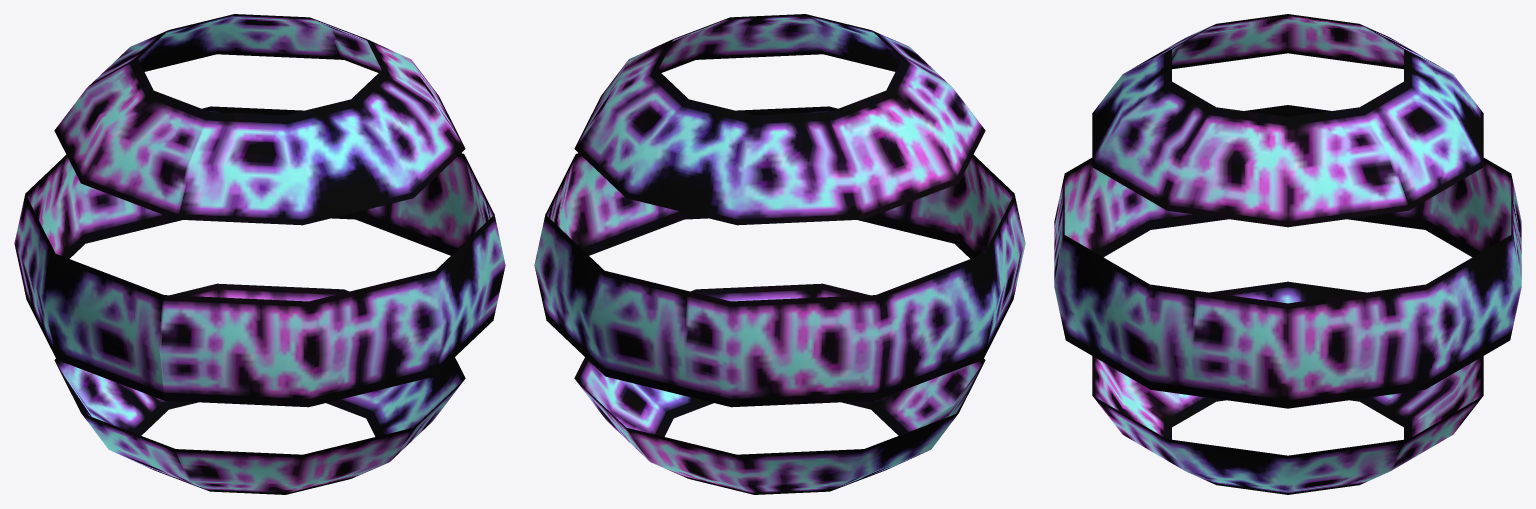
The model's file is Mystic Mansion - Switch Ball Light.obj.
3 renders of one model, left to right at view 1: azimuth 30°, elevation 25°; view 2: azimuth 150°, elevation 25°; view 3: azimuth 270°, elevation 25°, orthographic.
Visible parts, largest first — view 1: default; view 2: default; view 3: default.
Boxes of the visible parts, x1,y1,x2,y2 form: default: (14, 14, 505, 494); default: (534, 14, 1025, 494); default: (1054, 14, 1521, 494).
Size of the model in its own units: 10.2 by 8.65 by 9.7.
1 material, 1 textured.
